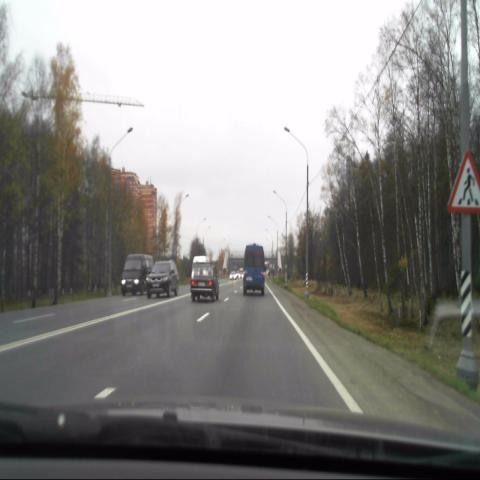1_22: (448, 149, 480, 214)
